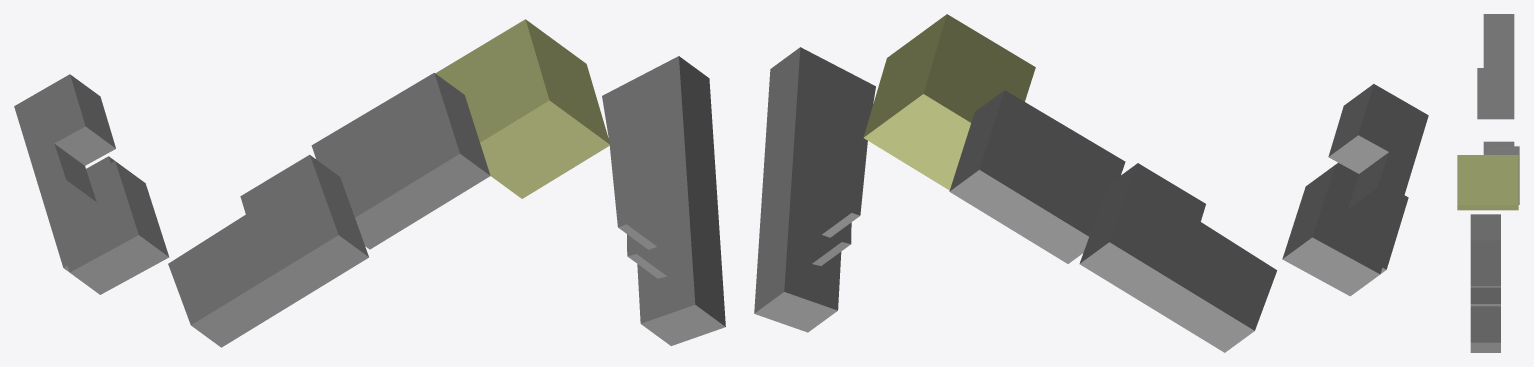
3 views of the same model, side by side, from view 1: azimuth 30°, elevation 25°; view 2: azimuth 150°, elevation 25°; view 3: azimuth 270°, elevation 25° (orthographic). The views are drawn at different scales.
Visible parts, largest first — view 1: 0_1_2_0_0_2_2; view 2: 0_1_2_0_0_2_2; view 3: 0_1_2_0_0_2_2.
Part boxes in pixels (x1,y1,x2,y2): 0_1_2_0_0_2_2: (14, 19, 725, 347); 0_1_2_0_0_2_2: (754, 14, 1428, 352); 0_1_2_0_0_2_2: (1457, 14, 1519, 352).
Size of the model in its own units: 37.86 by 20.37 by 6.1.
